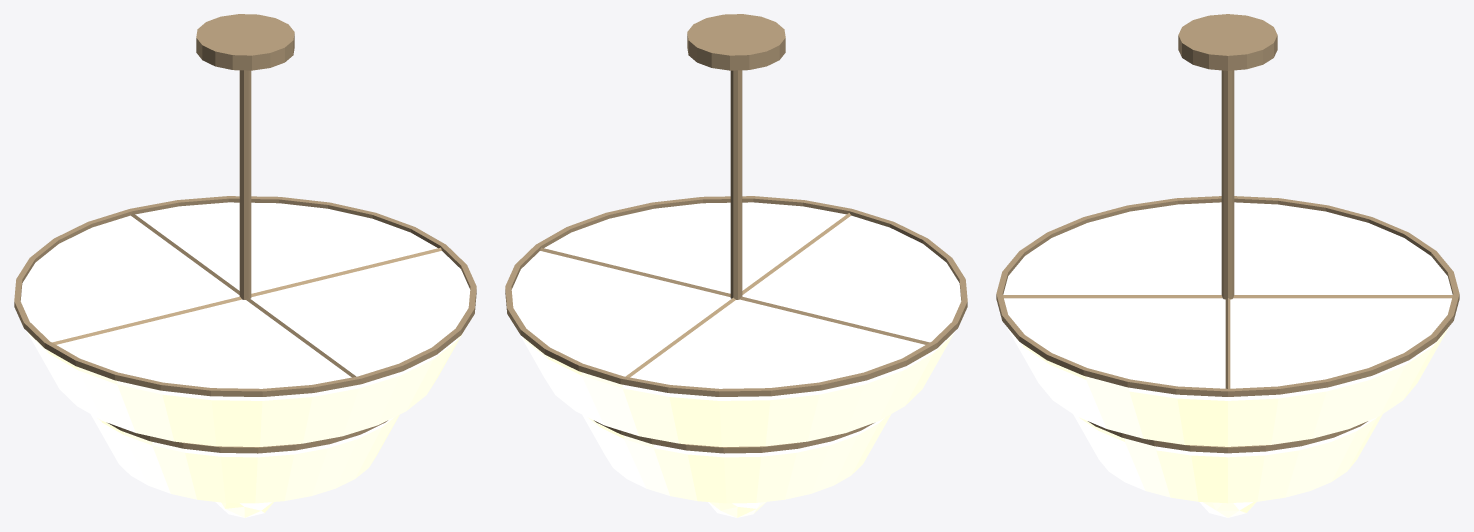
Rendered from chandelier_s.glb.
3 renders of one model, left to right at view 1: azimuth 30°, elevation 25°; view 2: azimuth 150°, elevation 25°; view 3: azimuth 270°, elevation 25°, orthographic.
Visible parts, largest first — view 1: chandelier_s_lamp_glass, chandelier_s_bronze; view 2: chandelier_s_lamp_glass, chandelier_s_bronze; view 3: chandelier_s_lamp_glass, chandelier_s_bronze.
Boxes of the visible parts, x1=… form: chandelier_s_lamp_glass: x1=20, y1=202, x2=470, y2=517; chandelier_s_bronze: x1=14, y1=14, x2=476, y2=453; chandelier_s_lamp_glass: x1=511, y1=202, x2=961, y2=517; chandelier_s_bronze: x1=505, y1=14, x2=967, y2=453; chandelier_s_lamp_glass: x1=1003, y1=202, x2=1452, y2=517; chandelier_s_bronze: x1=996, y1=14, x2=1459, y2=453.
Bounding box in the file's own units: 1.12 × 1.28 × 1.12.
